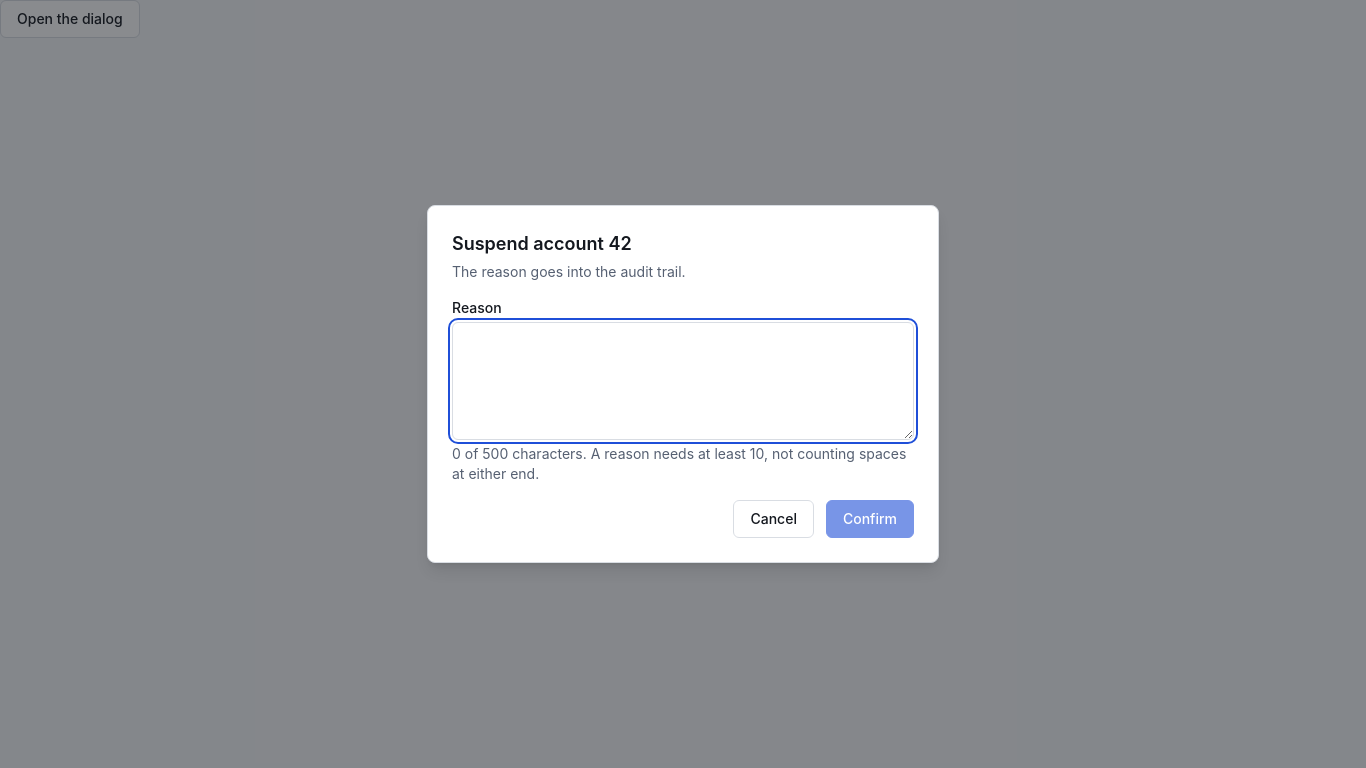
Scenario: ReasonDialog › stays open with the typed text and shows the correlation id when the request fails
This screenshot has width=1366, height=768.
Type "Twelve accounts share this fingerprint." into the text box labelled "Reason".
click(683, 381); type("Twelve accounts share this fingerprint.")  # box [452,322,914,440]
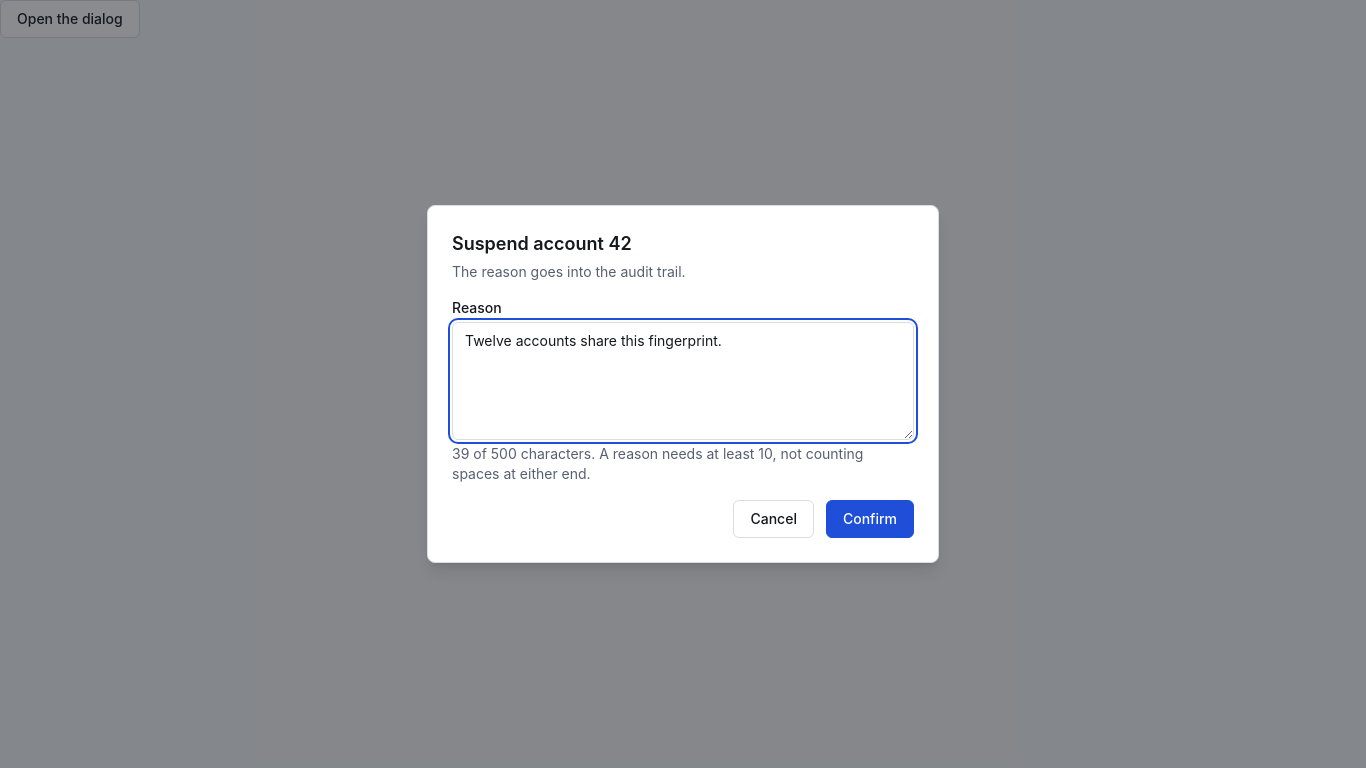
Click the button "Confirm".
click(870, 519)  # box [826,500,914,538]
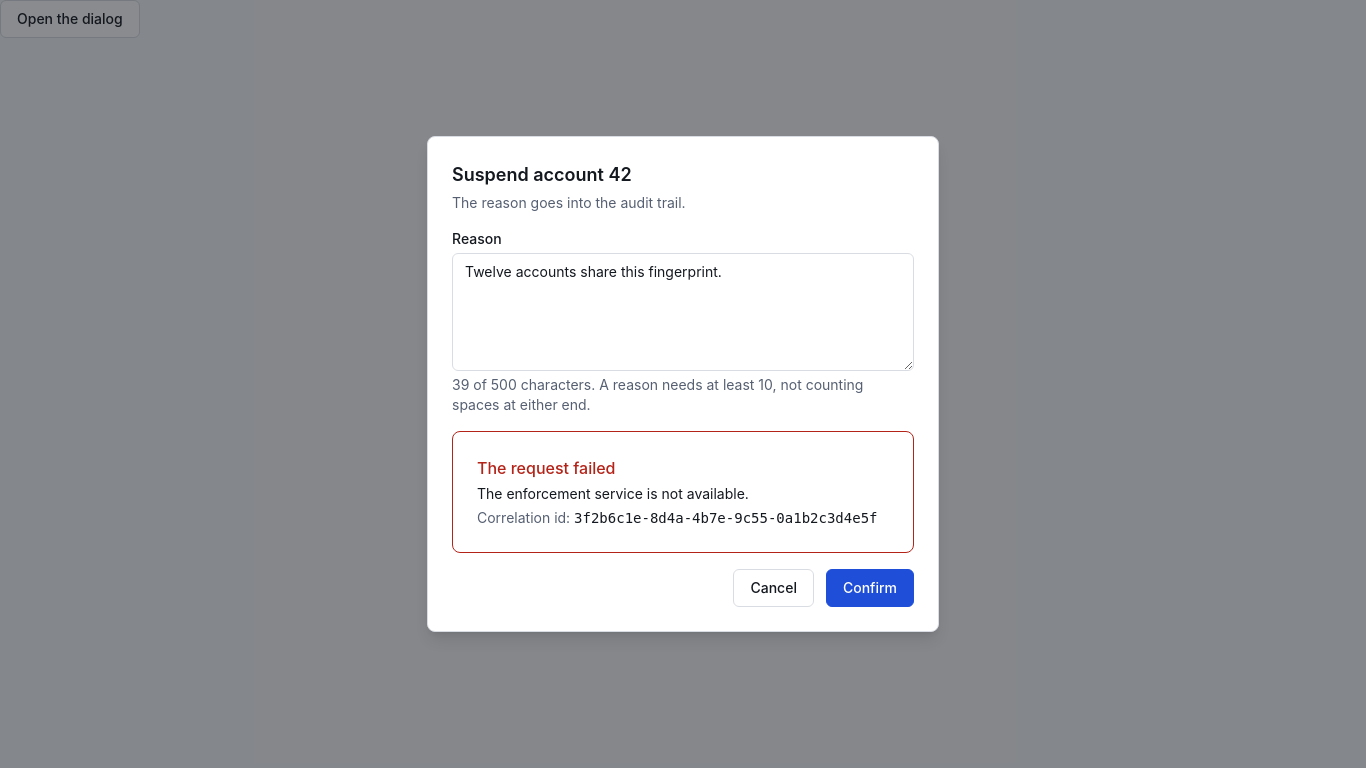
Result: the message shows "The request failed" at [477,458,616,478]
Result: the message shows "The enforcement service is not available." at [477,485,749,502]
Result: the message shows "3f2b6c1e-8d4a-4b7e-9c55-0a1b2c3d4e5f" at [574,510,878,526]
